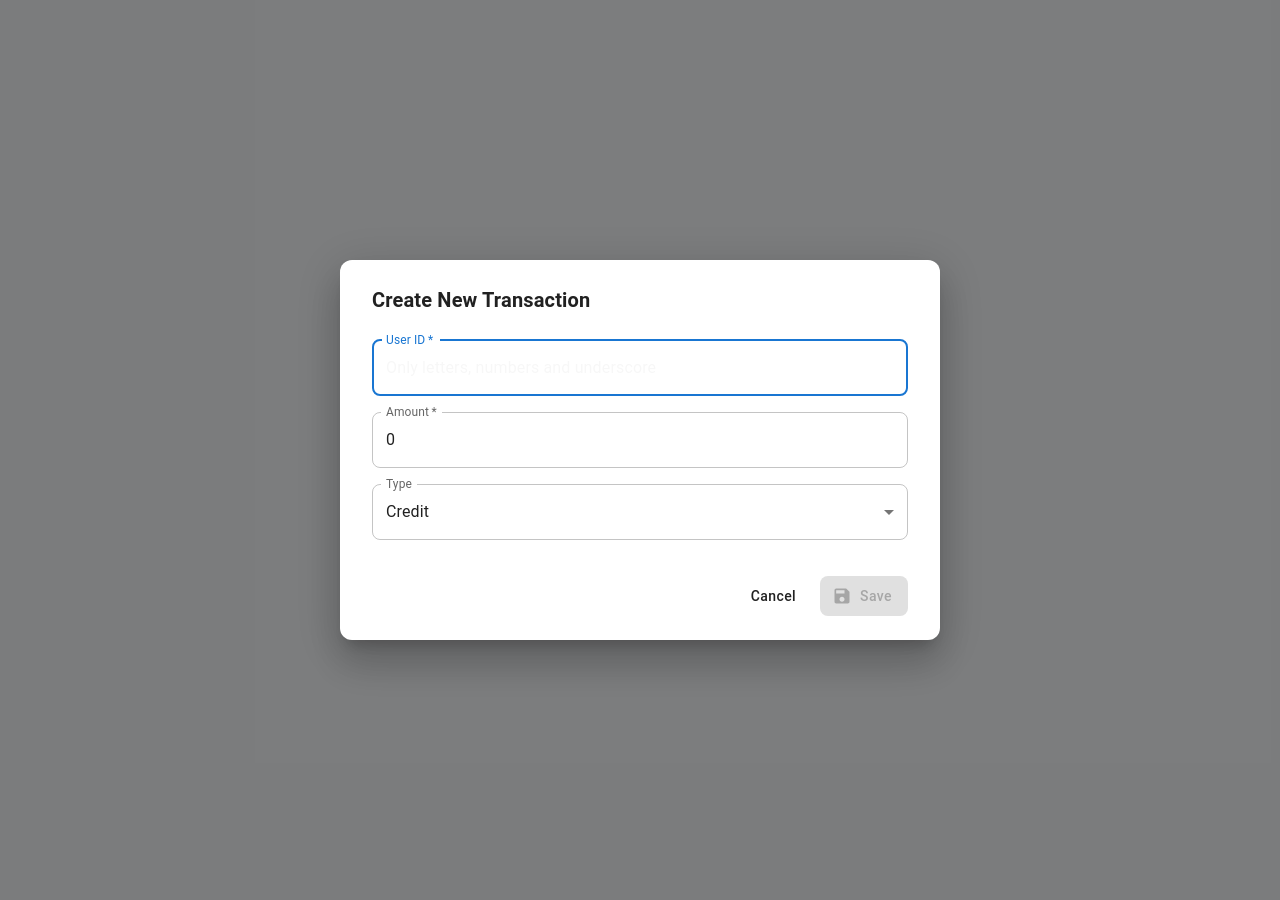
Test case: TransactionModal Component › should enable save button when form is valid
Step 1. Type "validUser123" into the field labelled "User ID *" → (640, 368), box [372,340,908,396]
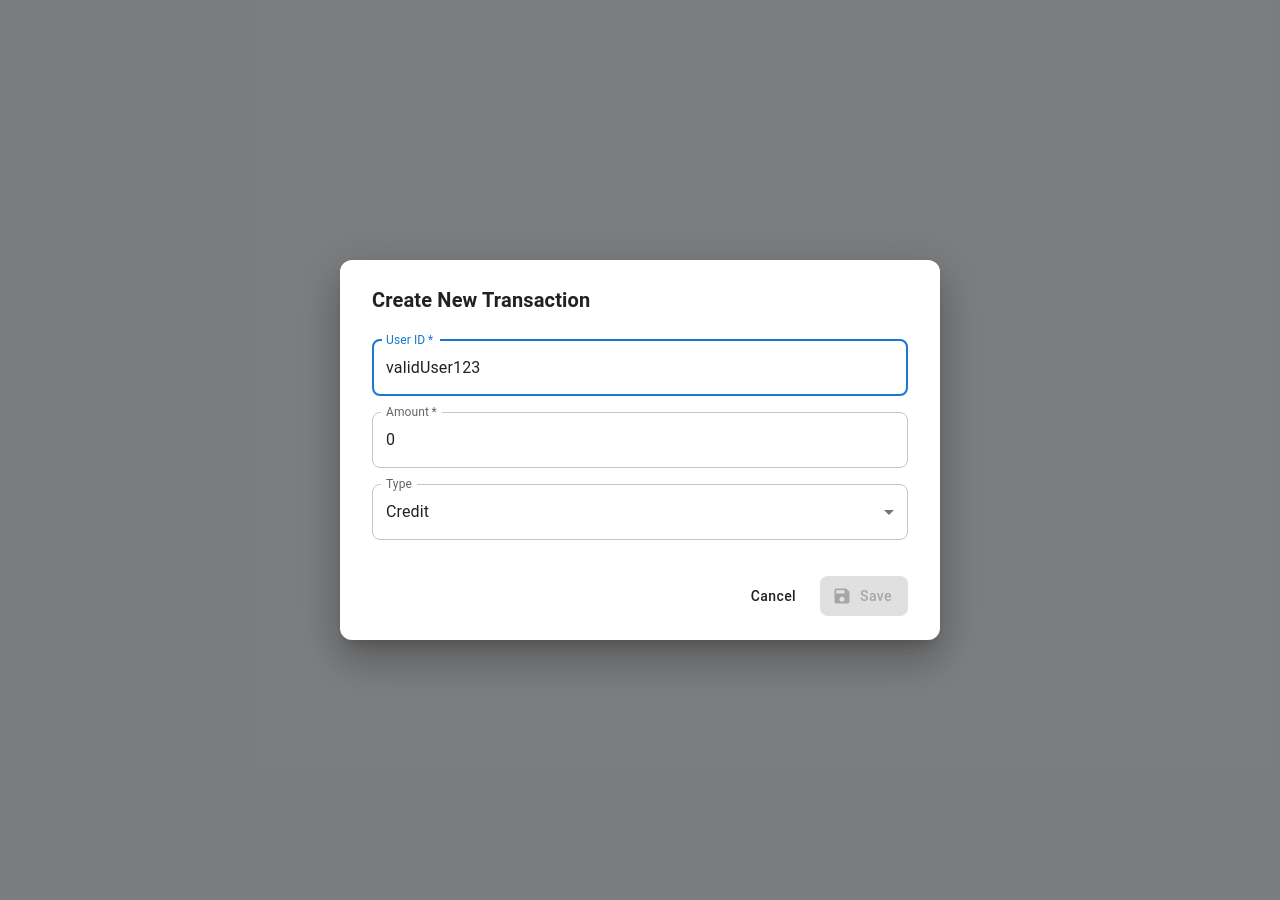
Step 2. Replace the text in the number field labelled "Amount *" with "100" → (640, 440), box [372,412,908,468]
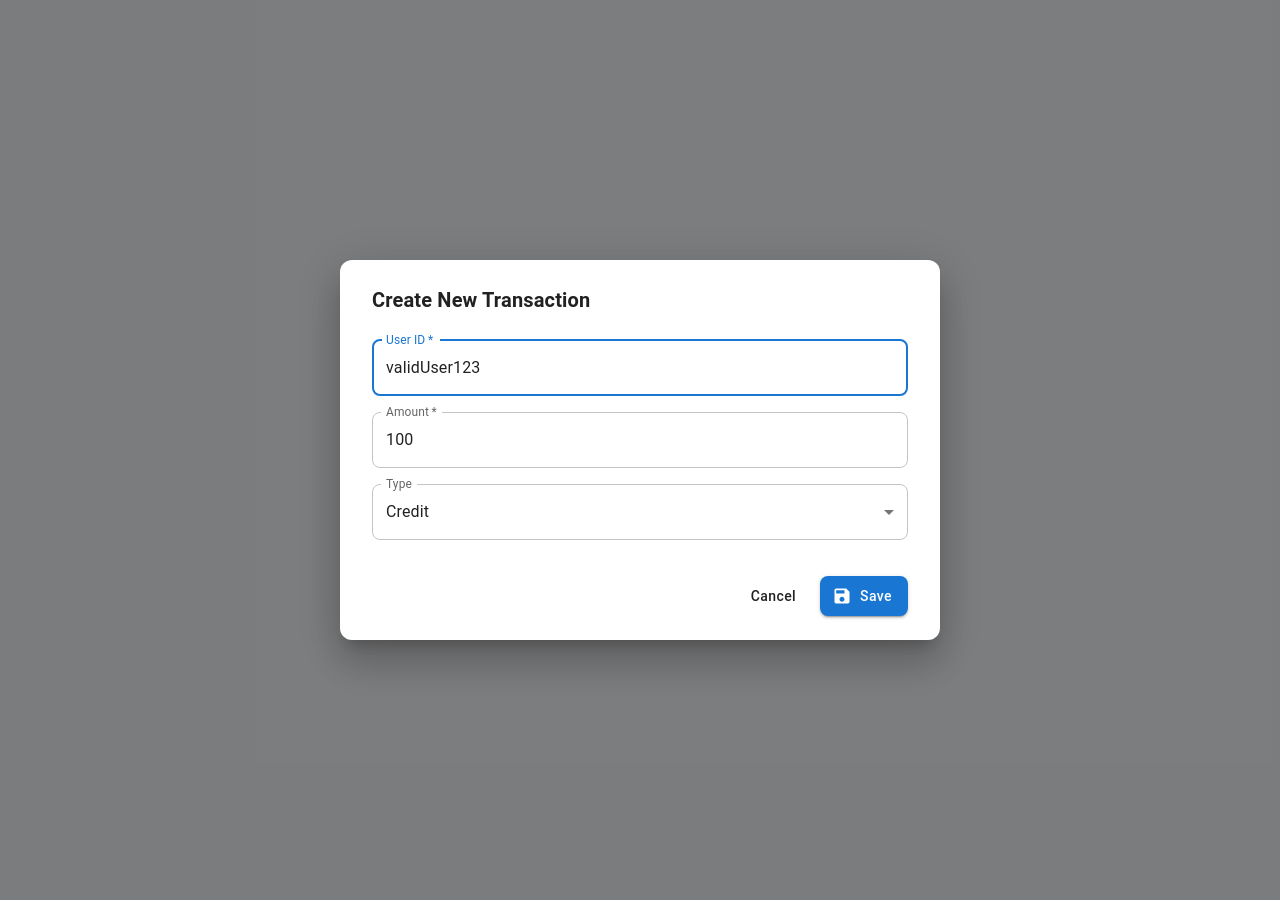
Now the button "Save" is enabled, box [820,576,908,616]
